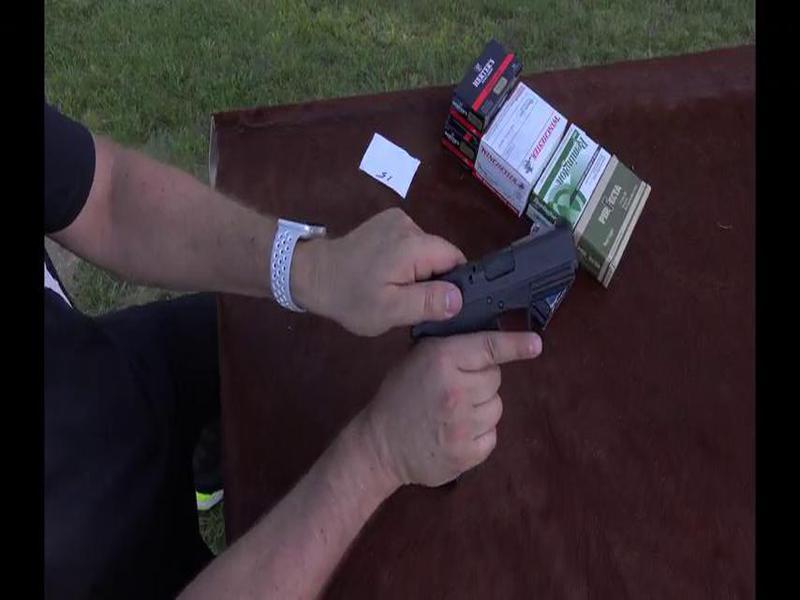Pistola: (357, 202, 599, 391)
